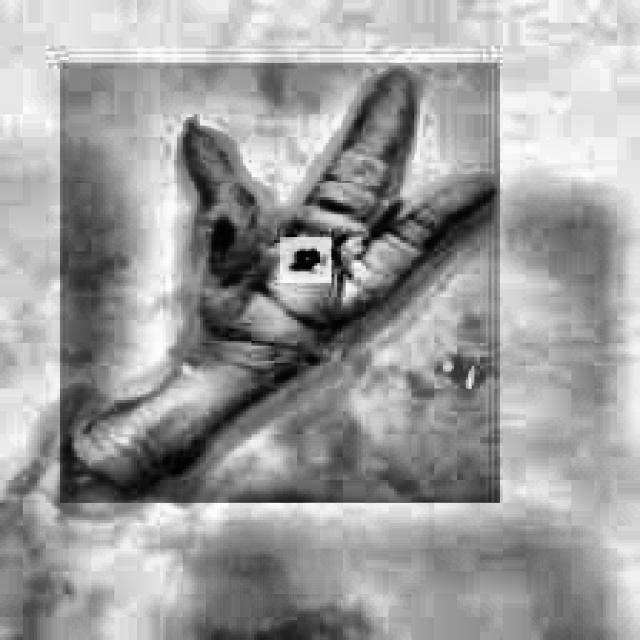Bumble foot: (284, 240, 335, 286)
